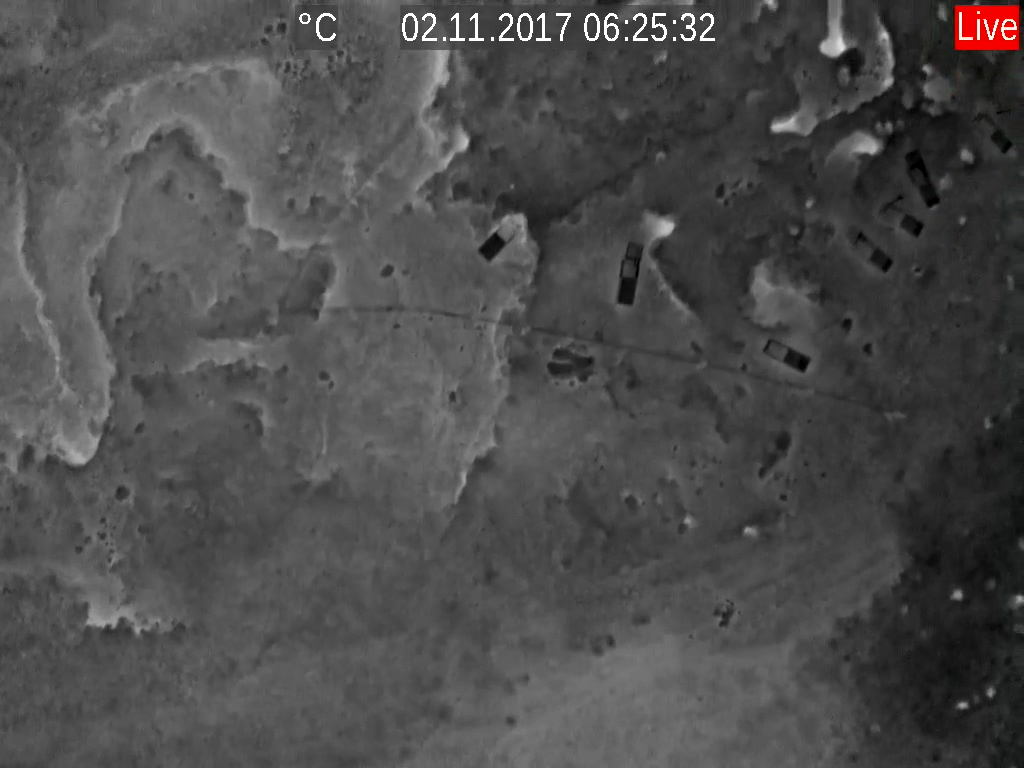warren: (623, 195, 680, 246), (741, 246, 779, 317), (765, 101, 820, 137), (842, 120, 884, 167), (822, 1, 849, 67), (495, 199, 533, 242), (675, 506, 701, 534), (737, 518, 761, 540)
